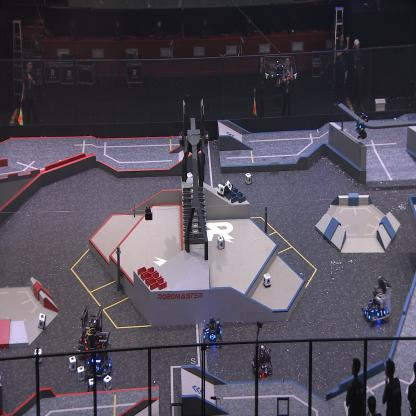car: (361, 275, 392, 325), (77, 303, 104, 358), (86, 330, 114, 379), (251, 344, 272, 377), (202, 315, 223, 348)
